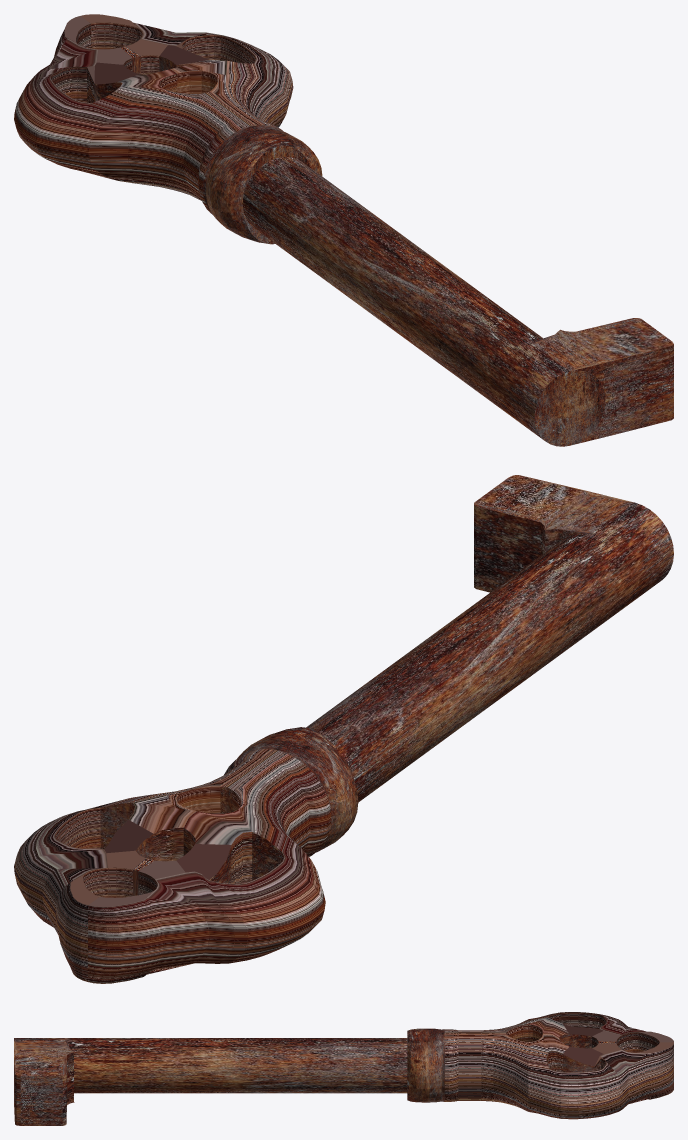
The model's file is key.glb.
3 views of the same model, one above another, from view 1: azimuth 30°, elevation 25°; view 2: azimuth 150°, elevation 25°; view 3: azimuth 270°, elevation 25° (orthographic). The views are drawn at different scales.
Parts seen in each view (by area): view 1: Key; view 2: Key; view 3: Key.
Part boxes in pixels (x1=…): Key: x1=14, y1=14, x2=673, y2=446; Key: x1=14, y1=475, x2=673, y2=983; Key: x1=14, y1=1012, x2=673, y2=1125.
Bounding box in the file's own units: 1.4 × 0.5036 × 4.59.
Materials: 1 (1 with a texture image).
